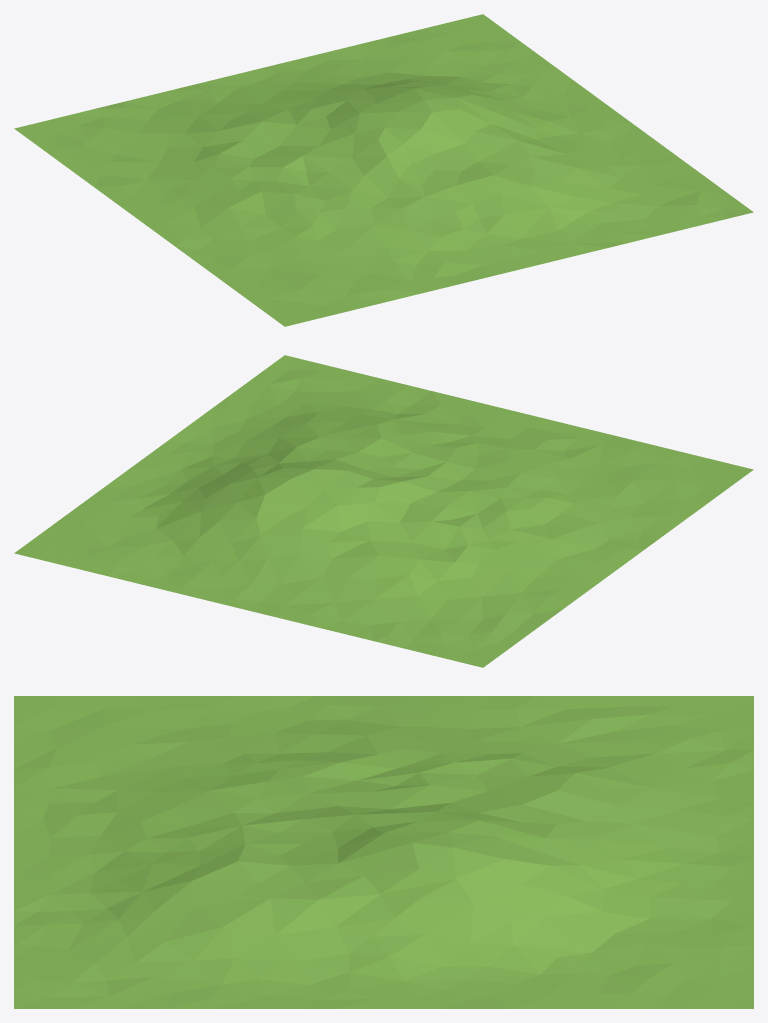
Rendered from MT_Terrain_M_a_08.fbx.
The picture shows the model from 3 angles, top to bottom: view 1: azimuth 30°, elevation 25°; view 2: azimuth 150°, elevation 25°; view 3: azimuth 270°, elevation 25°; orthographic projection. The views are drawn at different scales.
Parts seen in each view (by area): view 1: MT_Terrain_M_a_08; view 2: MT_Terrain_M_a_08; view 3: MT_Terrain_M_a_08.
Part boxes in pixels (x1,y1,x2,y2): MT_Terrain_M_a_08: (14,14,753,326); MT_Terrain_M_a_08: (14,355,753,667); MT_Terrain_M_a_08: (14,696,753,1008).
Size of the model in its own units: 5000 by 373 by 5000.
